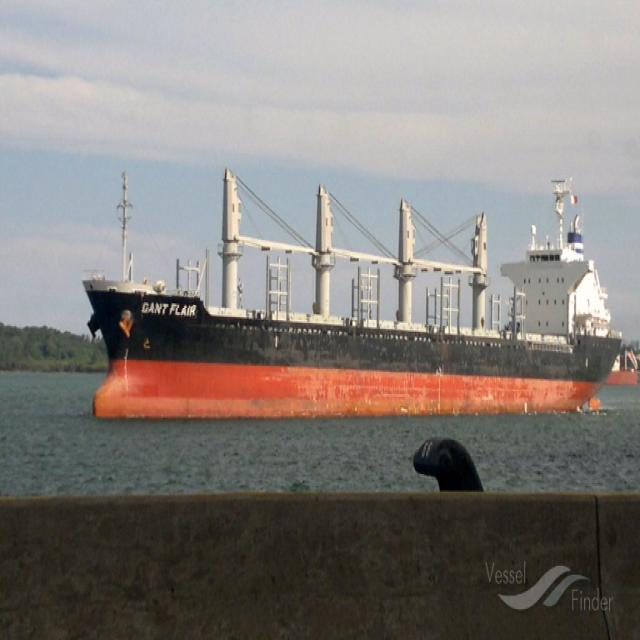OCR: (138, 291, 201, 325)
